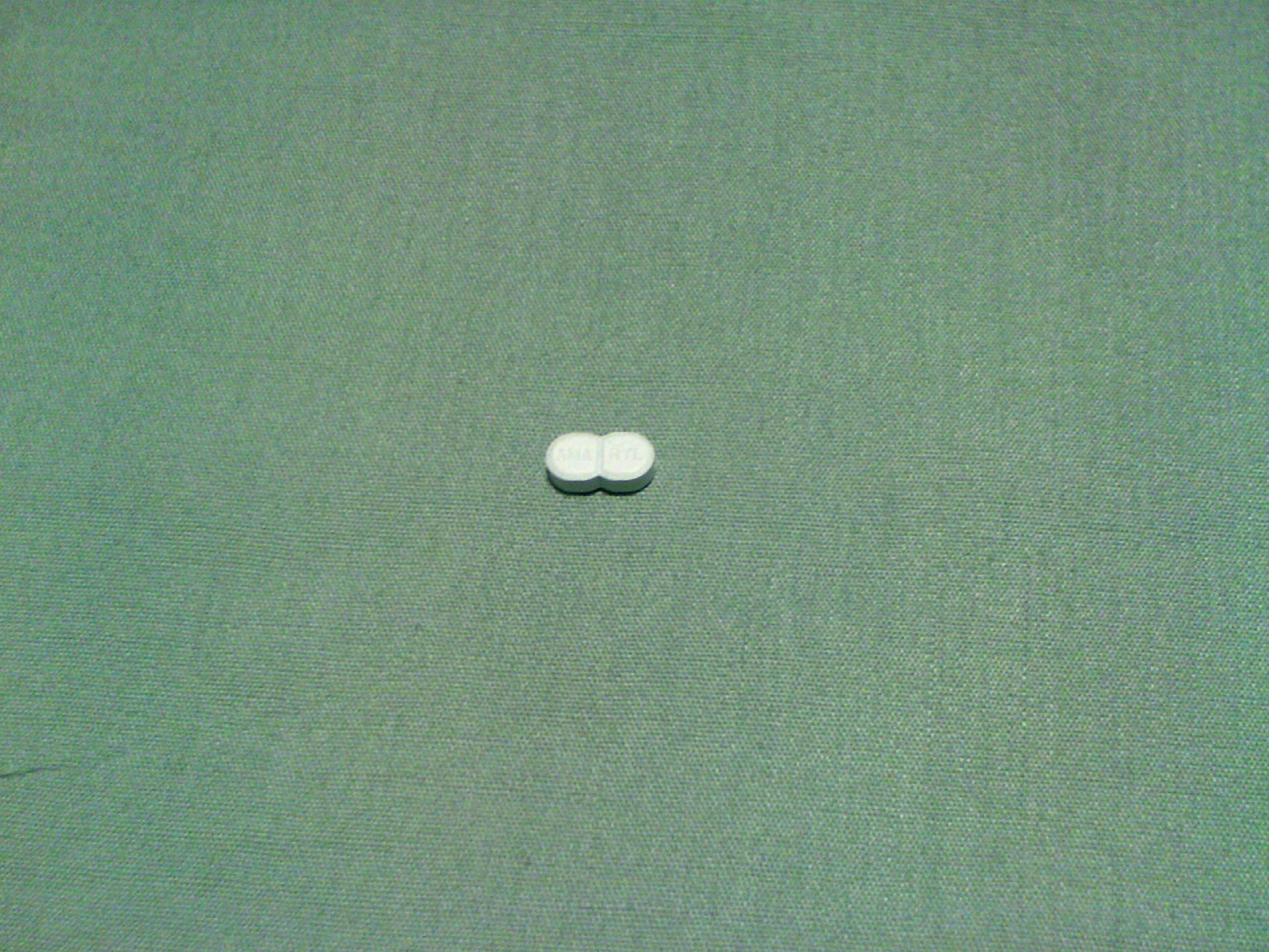Pill: (516, 416, 682, 507)
